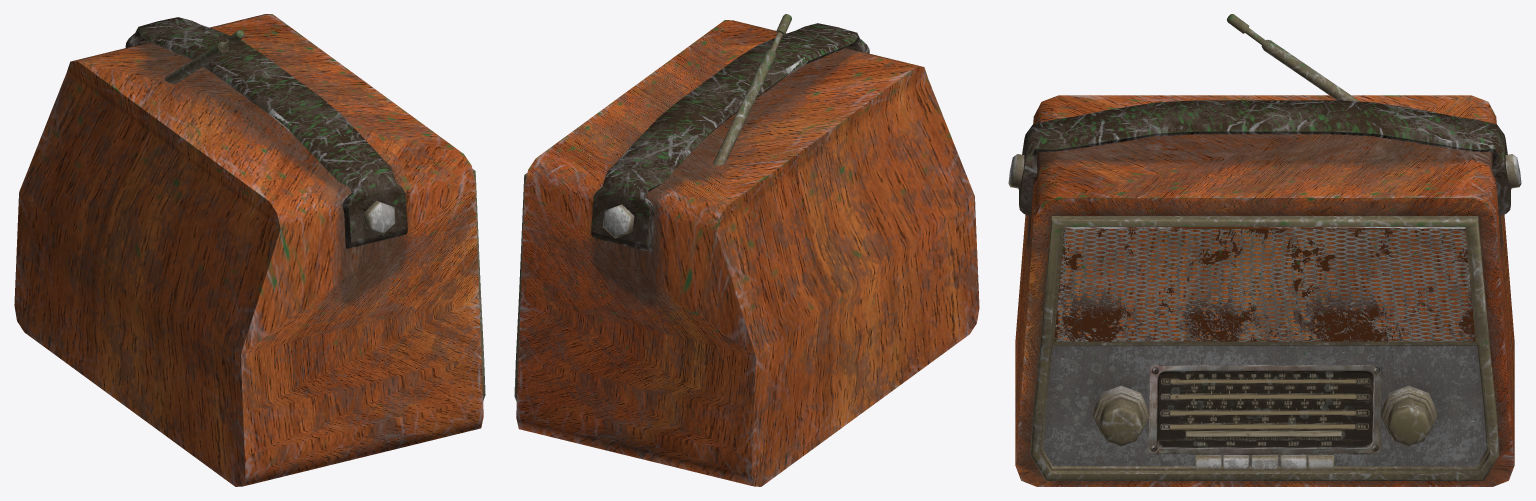
Rendered from radio 1.fbx.
3 renders of one model, left to right at view 1: azimuth 30°, elevation 25°; view 2: azimuth 150°, elevation 25°; view 3: azimuth 270°, elevation 25°, orthographic. The views are drawn at different scales.
Parts seen in each view (by area): view 1: Radio; view 2: Radio; view 3: Radio, Radio_knop_L, Radio_knop_R.
Boxes of the visible parts, box(x1,y1,x2,y2) form: Radio: box(14, 14, 485, 486); Radio: box(514, 14, 979, 486); Radio: box(1008, 14, 1521, 486); Radio_knop_L: box(1092, 385, 1149, 446); Radio_knop_R: box(1380, 385, 1437, 446).
Size of the model in its own units: 0.2684 by 0.3458 by 0.4052.
